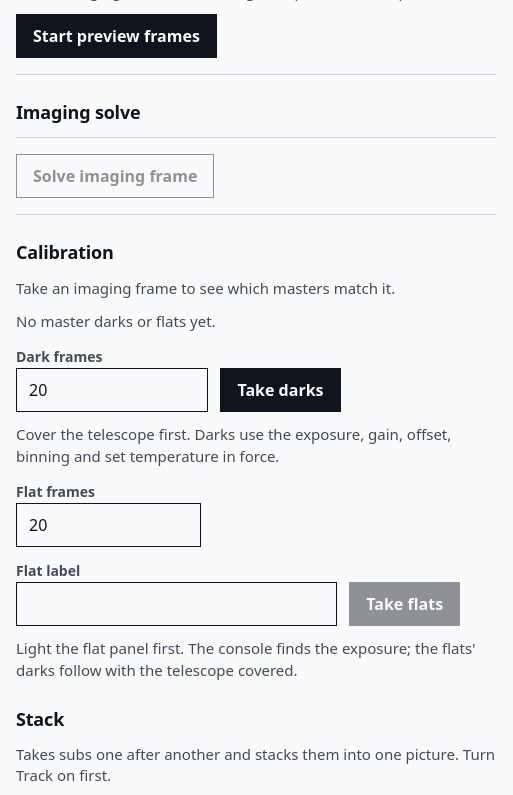
Scenario: US9-S6: reads the imaging view immediately after the answer, displays progress and preserves drafts across polls
This screenshot has width=513, height=795.
(page scrolled)
Step 1. Replace the text in the number field labelled "Dark frames" with "5" → (112, 390), box [16, 368, 208, 412]
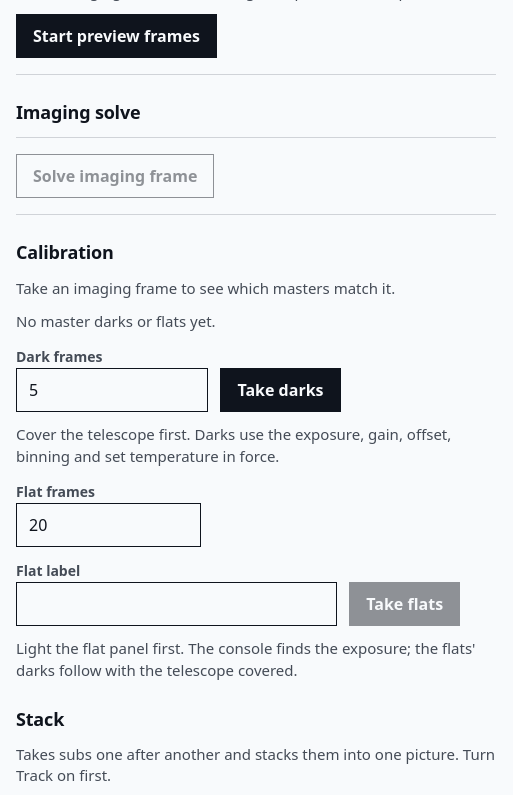
Step 2. Replace the text in the number field labelled "Flat frames" with "4" → (109, 525), box [16, 503, 201, 547]
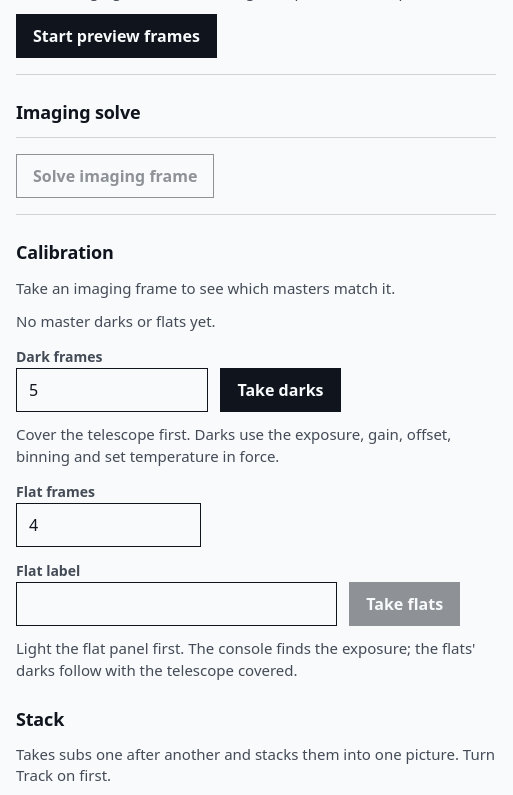
Step 3. Type "desk" into the field labelled "Flat label" → (177, 604), box [16, 582, 337, 626]
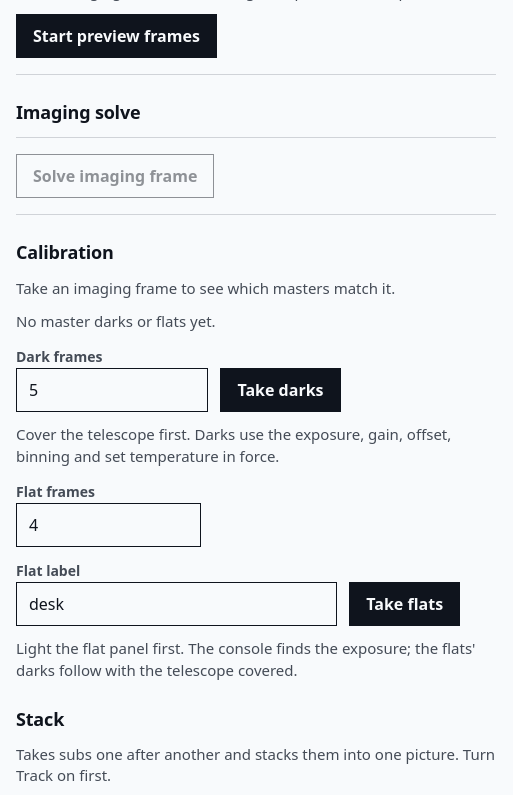
Step 4. Click the button "Take darks" → (280, 390), box [220, 368, 340, 412]
Wait 1000 ms
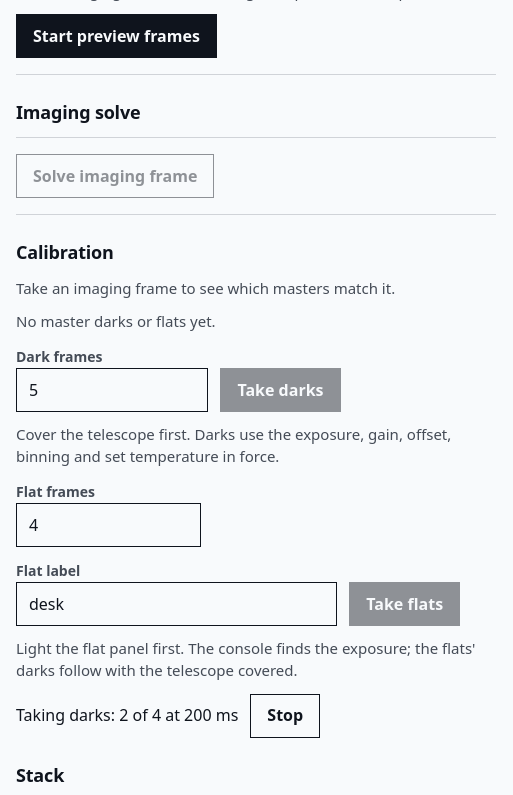
Check: the message reads "Taking darks: 2 of 4 at 200 ms", box [16, 704, 238, 726]
